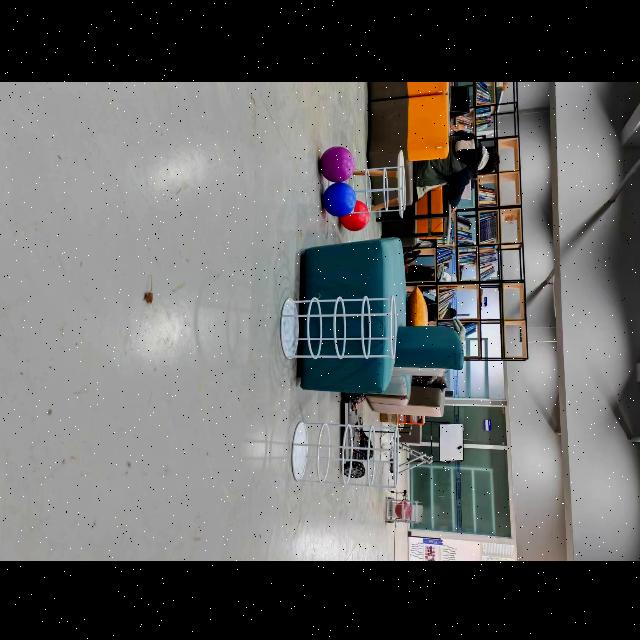B: (319, 145, 355, 181), (323, 181, 357, 214)
R: (340, 199, 369, 230)
S: (281, 295, 396, 358), (292, 421, 399, 488)
